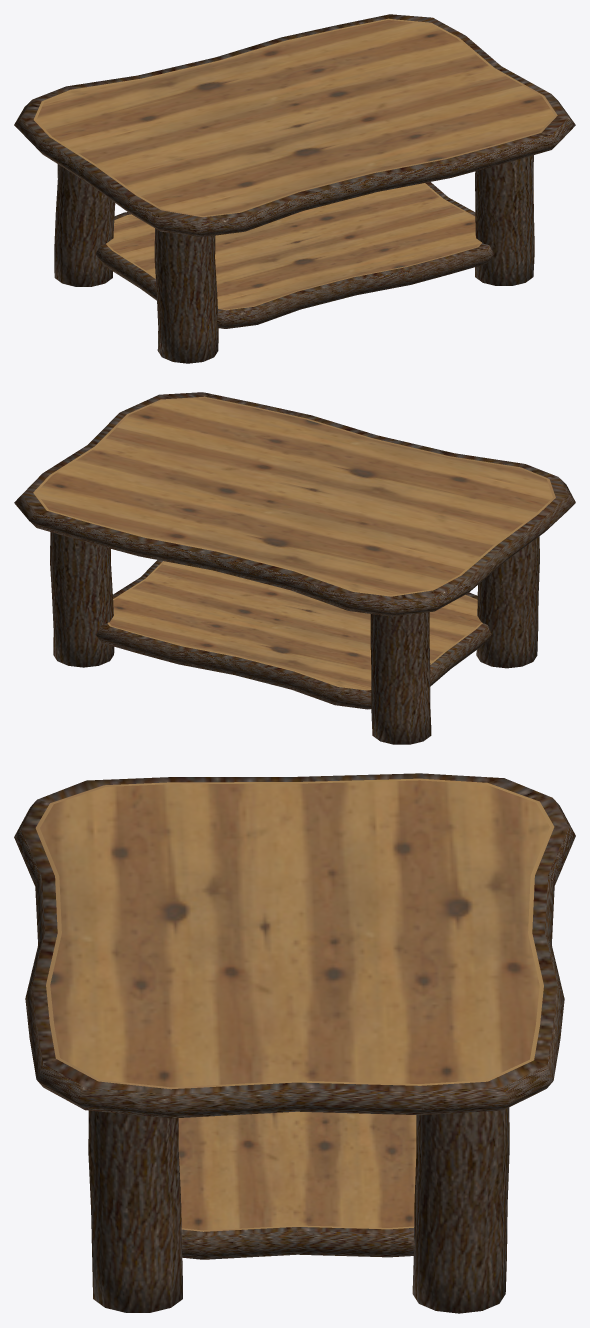
Rendered from SM_table.fbx.
The picture shows the model from 3 angles, top to bottom: view 1: azimuth 30°, elevation 25°; view 2: azimuth 150°, elevation 25°; view 3: azimuth 270°, elevation 25°; orthographic projection. The views are drawn at different scales.
Visible parts, largest first — view 1: SM_table; view 2: SM_table; view 3: SM_table.
Part boxes in pixels (x1,y1,x2,y2): SM_table: (14, 14, 575, 363); SM_table: (14, 392, 575, 744); SM_table: (14, 773, 575, 1313).
Size of the model in its own units: 195 by 66.79 by 140.
